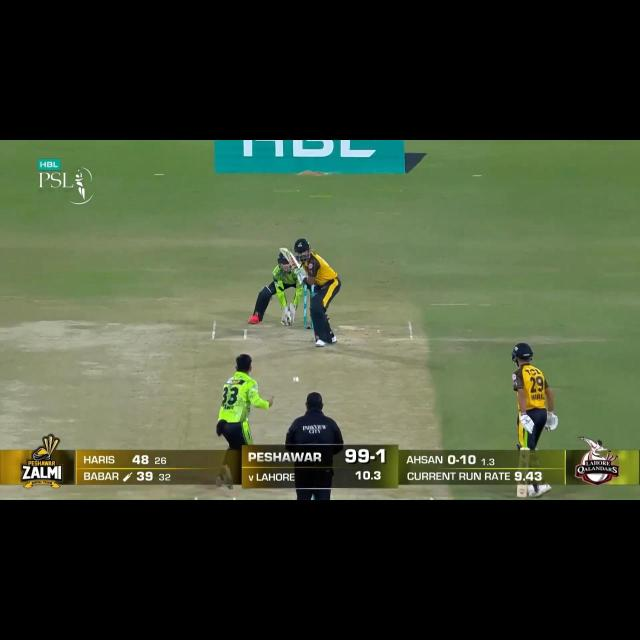bat: (280, 247, 300, 270)
toe: (279, 247, 293, 257), (516, 486, 528, 494)
